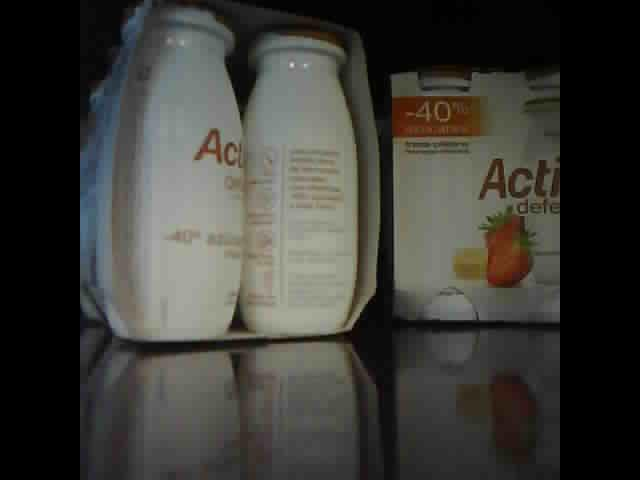actimel: (83, 1, 380, 345), (391, 67, 560, 325)
